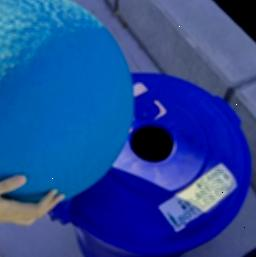algae: (0, 0, 133, 209)
